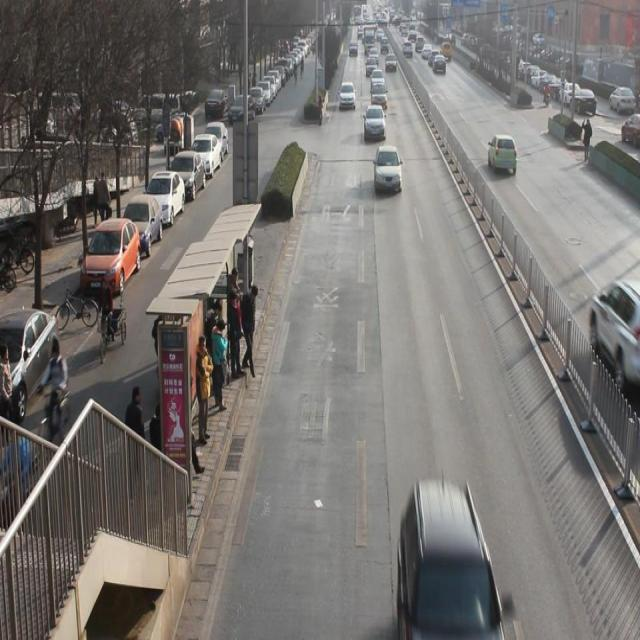car: (399, 481, 508, 640), (590, 278, 640, 395), (372, 146, 404, 199), (486, 132, 520, 178), (363, 106, 388, 142), (339, 80, 357, 112), (369, 84, 389, 107)
